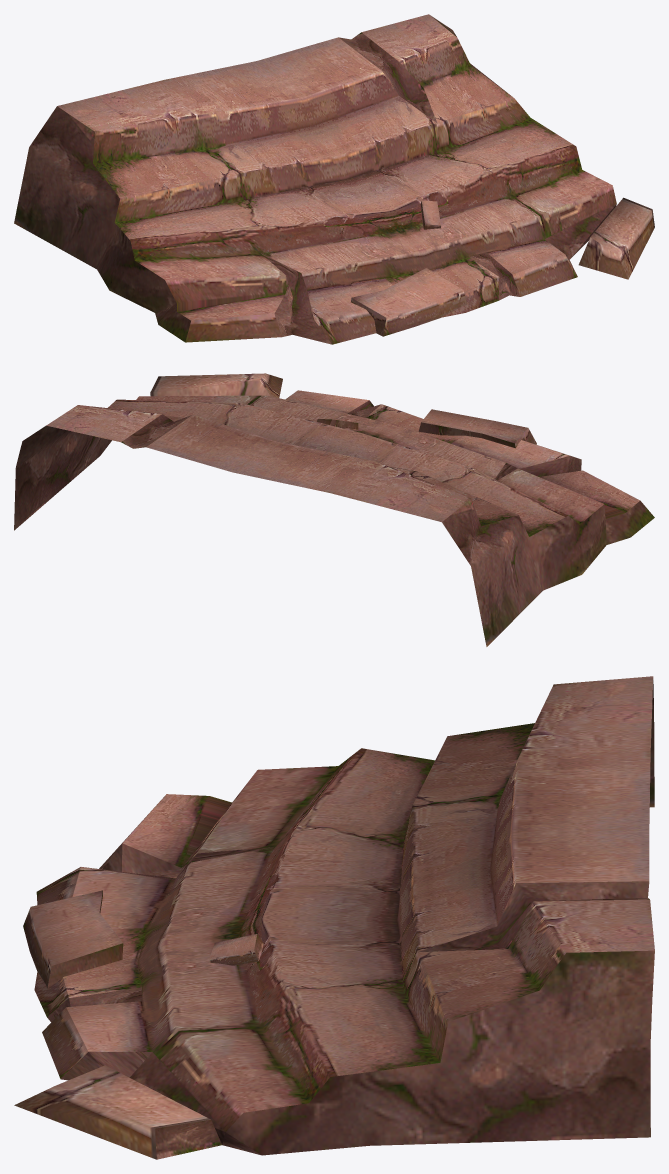
File: yw_huanghunhupan_shiti01.FBX
3 views of the same model, one above another, from view 1: azimuth 30°, elevation 25°; view 2: azimuth 150°, elevation 25°; view 3: azimuth 270°, elevation 25° (orthographic). The views are drawn at different scales.
Parts seen in each view (by area): view 1: yw_huanghunhupan_shiti01; view 2: yw_huanghunhupan_shiti01; view 3: yw_huanghunhupan_shiti01.
Boxes of the visible parts, x1,y1,x2,y2 form: yw_huanghunhupan_shiti01: (14, 14, 654, 344); yw_huanghunhupan_shiti01: (14, 373, 654, 646); yw_huanghunhupan_shiti01: (14, 676, 654, 1159).
Size of the model in its own units: 431 by 93.85 by 331.
